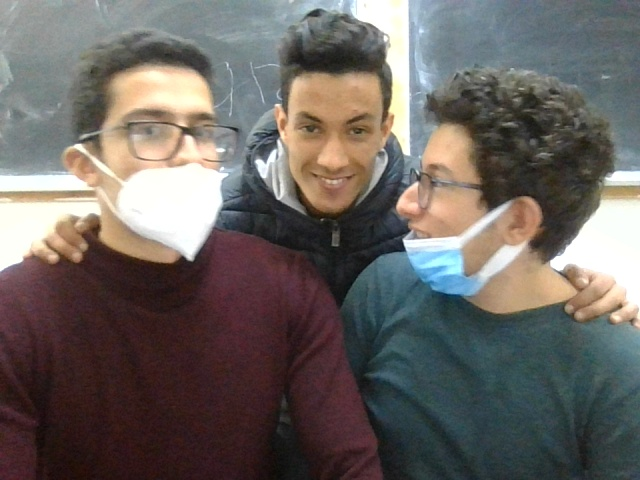mask_weared_incorrect: (391, 62, 566, 295), (65, 40, 236, 250)
without_mask: (274, 8, 387, 220)
